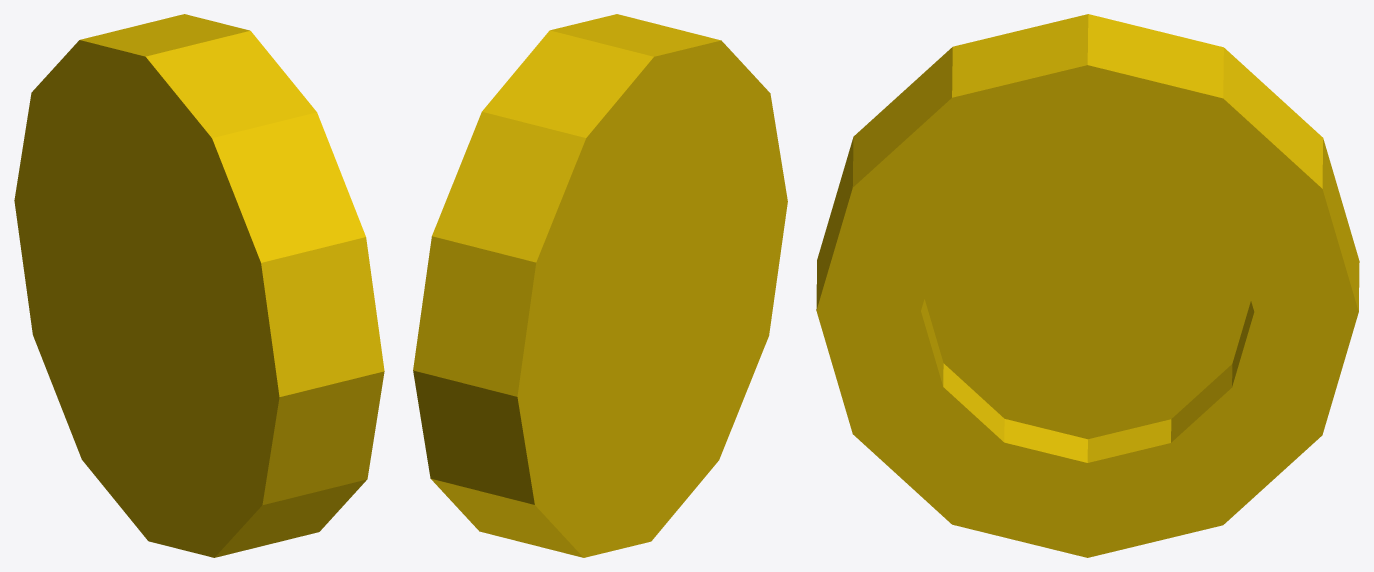
File: coin-import.fbx
The picture shows the model from 3 angles, left to right: view 1: azimuth 30°, elevation 25°; view 2: azimuth 150°, elevation 25°; view 3: azimuth 270°, elevation 25°; orthographic projection.
Parts seen in each view (by area): view 1: Circle; view 2: Circle; view 3: Circle.
Part boxes in pixels (x1,y1,x2,y2): Circle: (14,14,384,557); Circle: (413,14,787,557); Circle: (816,14,1359,557).
Size of the model in its own units: 18.09 by 77.5 by 77.5.
